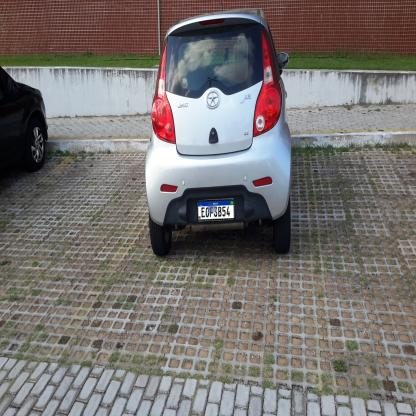PlacaM: (198, 199, 235, 221)
